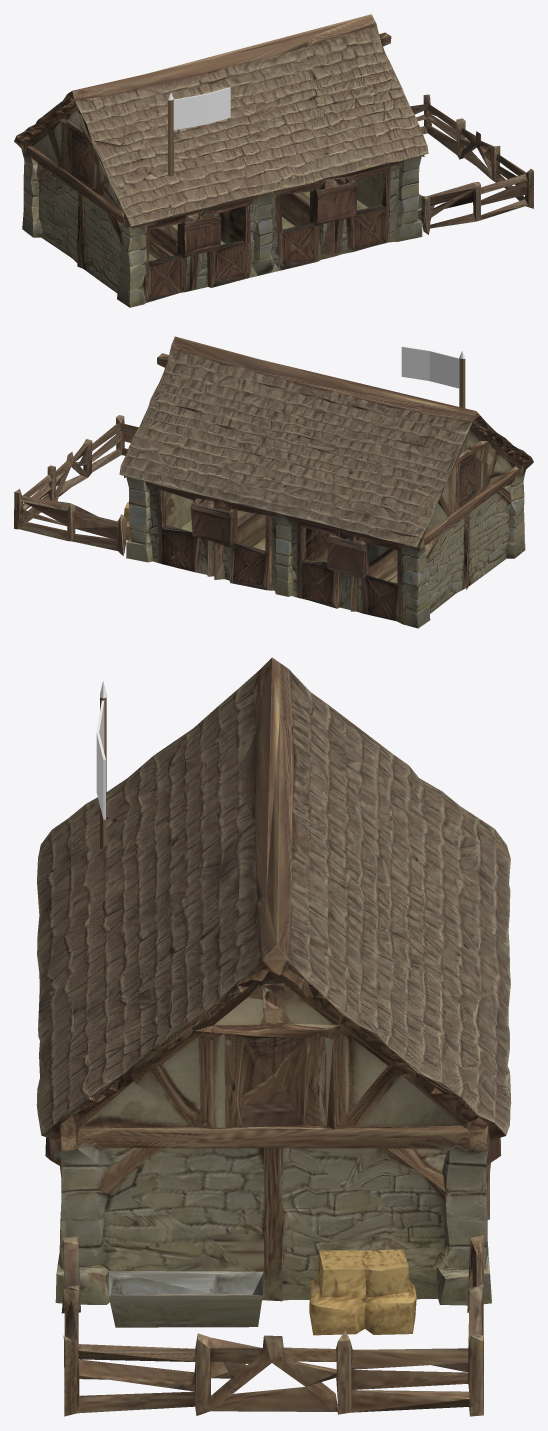
3 views of the same model, one above another, from view 1: azimuth 30°, elevation 25°; view 2: azimuth 150°, elevation 25°; view 3: azimuth 270°, elevation 25° (orthographic). The views are drawn at different scales.
Visible parts, largest first — view 1: stable, Team_banner; view 2: stable, Team_banner; view 3: stable, Team_banner.
Boxes of the visible parts, x1,y1,x2,y2 form: stable: (14, 14, 533, 307); Team_banner: (168, 87, 230, 176); stable: (14, 336, 533, 628); Team_banner: (401, 346, 465, 408); stable: (36, 657, 511, 1416); Team_banner: (96, 681, 106, 849).
Bounding box in the file's own units: 1.89 × 0.8642 × 0.9475.
3 materials, 1 textured.
